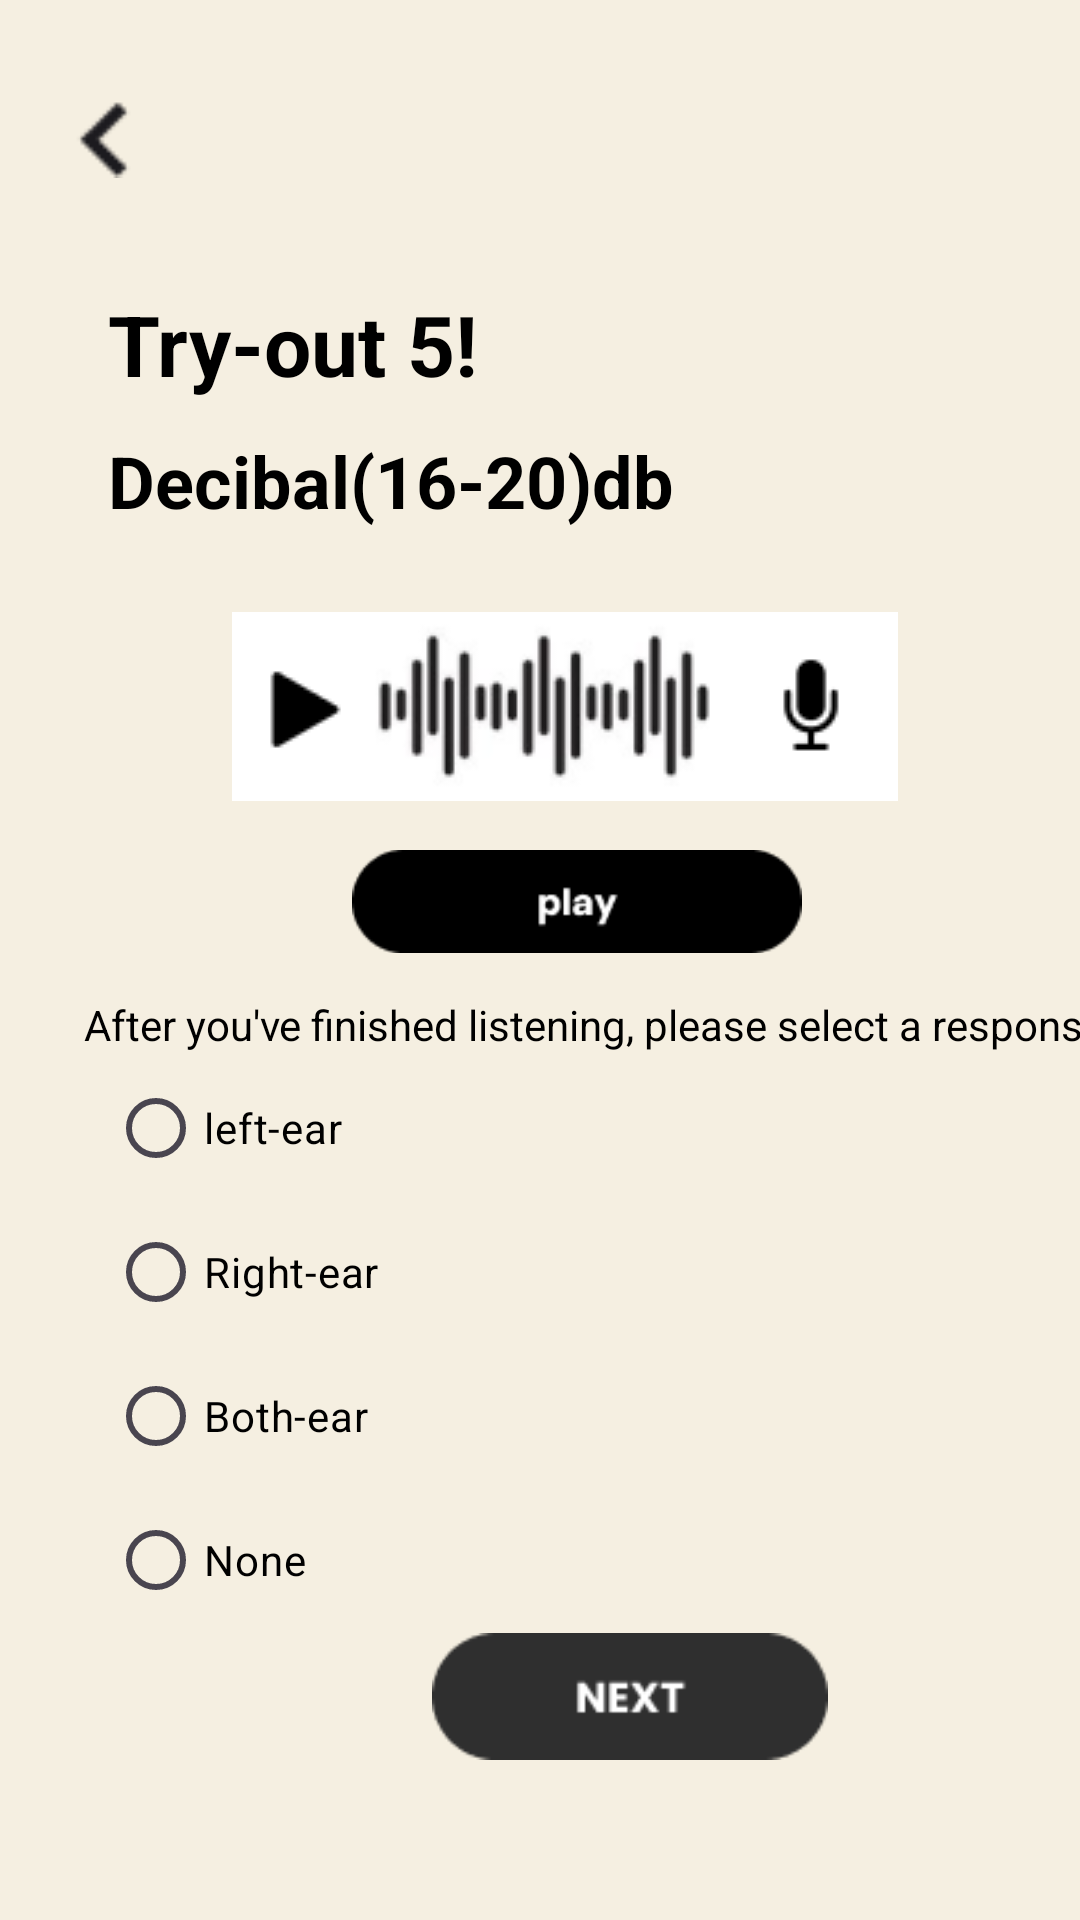

Point at icon controls on the screen. Image size 1080×1920, points as (x,y).
backarrow: (103,140)
